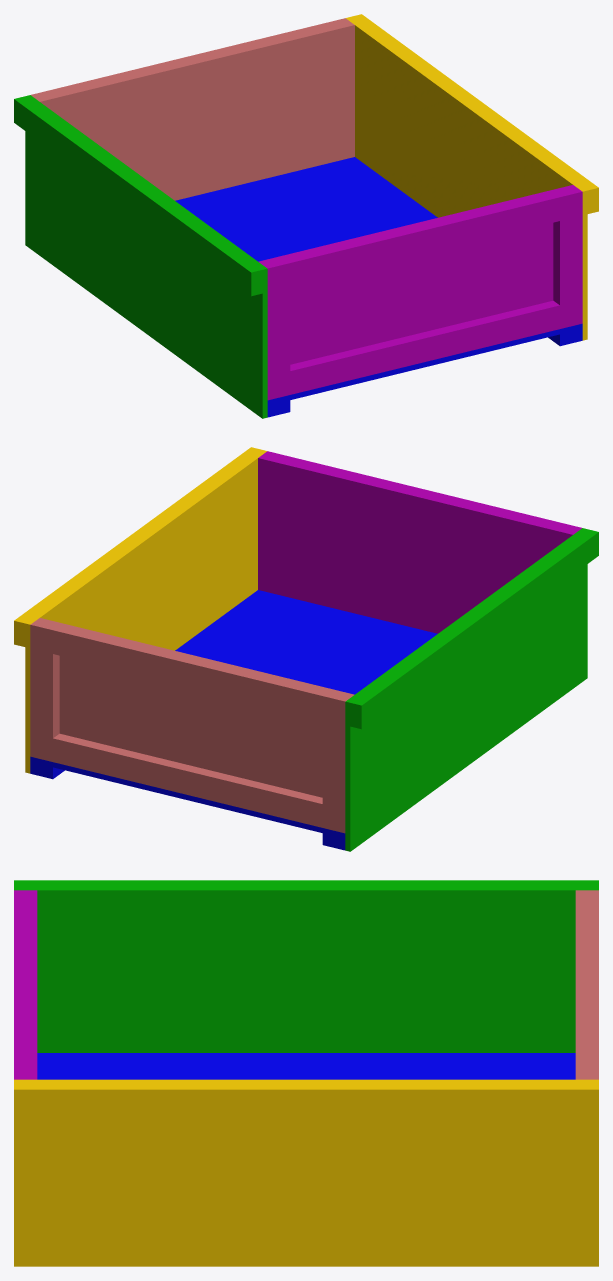
File: result.glb
3 views of the same model, one above another, from view 1: azimuth 30°, elevation 25°; view 2: azimuth 150°, elevation 25°; view 3: azimuth 270°, elevation 25° (orthographic). The views are drawn at different scales.
Parts seen in each view (by area): view 1: 3681e3bf-60c3-491b-8070-2dc3f50ba61c__undefined, b11243e1-1dce-4a89-97ea-7af2fce43f36__Box_6, 77fae06c-28fd-427f-b5fb-5c0b5a362510__undefined, f3de91a0-459d-4058-b39d-88b7585db05c__Box_3, c9e61b96-93dc-47dd-aac9-d6441d37034f__Box, e978d200-114e-425a-9752-bc6684e7fb0c__Box_7, 3c8fd72f-9050-4b70-af2f-f8ecd82deae7__undefined, 07f82b00-eb5a-4a38-9a83-b3995fec388a__Box_5, fd5cf4d2-50be-49a6-8da0-34be78d331cc__undefined, c1149ab2-0e81-45a0-8df3-9358fe344a7a__Box_4, 5647ea86-6cb0-43e8-ab88-22c736b11529__undefined, c5170dbc-4d08-4be2-963e-89310e51156c__undefined; view 2: f3de91a0-459d-4058-b39d-88b7585db05c__Box_3, b11243e1-1dce-4a89-97ea-7af2fce43f36__Box_6, 77fae06c-28fd-427f-b5fb-5c0b5a362510__undefined, 3681e3bf-60c3-491b-8070-2dc3f50ba61c__undefined, c9e61b96-93dc-47dd-aac9-d6441d37034f__Box, e978d200-114e-425a-9752-bc6684e7fb0c__Box_7, c5170dbc-4d08-4be2-963e-89310e51156c__undefined, 8b0b4097-4090-4111-91d5-4014376cc7b7__undefined, 528d70de-dcce-48bd-99b8-853e054d77c8__undefined, b14191b0-82a1-4f99-a056-e31682cc5346__undefined, 5647ea86-6cb0-43e8-ab88-22c736b11529__undefined, 3c8fd72f-9050-4b70-af2f-f8ecd82deae7__undefined; view 3: b11243e1-1dce-4a89-97ea-7af2fce43f36__Box_6, 77fae06c-28fd-427f-b5fb-5c0b5a362510__undefined, 5647ea86-6cb0-43e8-ab88-22c736b11529__undefined, c9e61b96-93dc-47dd-aac9-d6441d37034f__Box, e978d200-114e-425a-9752-bc6684e7fb0c__Box_7, 3c8fd72f-9050-4b70-af2f-f8ecd82deae7__undefined, c5170dbc-4d08-4be2-963e-89310e51156c__undefined, f3de91a0-459d-4058-b39d-88b7585db05c__Box_3, 3681e3bf-60c3-491b-8070-2dc3f50ba61c__undefined.
Boxes of the visible parts, x1,y1,x2,y2 form: 3681e3bf-60c3-491b-8070-2dc3f50ba61c__undefined: [37, 23, 354, 200]; b11243e1-1dce-4a89-97ea-7af2fce43f36__Box_6: [25, 95, 267, 418]; 77fae06c-28fd-427f-b5fb-5c0b5a362510__undefined: [345, 17, 587, 340]; f3de91a0-459d-4058-b39d-88b7585db05c__Box_3: [258, 185, 575, 364]; c9e61b96-93dc-47dd-aac9-d6441d37034f__Box: [175, 157, 582, 405]; e978d200-114e-425a-9752-bc6684e7fb0c__Box_7: [14, 96, 262, 296]; 3c8fd72f-9050-4b70-af2f-f8ecd82deae7__undefined: [284, 192, 559, 286]; 07f82b00-eb5a-4a38-9a83-b3995fec388a__Box_5: [290, 300, 559, 394]; fd5cf4d2-50be-49a6-8da0-34be78d331cc__undefined: [553, 187, 582, 328]; c1149ab2-0e81-45a0-8df3-9358fe344a7a__Box_4: [261, 258, 290, 400]; 5647ea86-6cb0-43e8-ab88-22c736b11529__undefined: [351, 14, 598, 213]; c5170dbc-4d08-4be2-963e-89310e51156c__undefined: [53, 23, 328, 94]; f3de91a0-459d-4058-b39d-88b7585db05c__Box_3: [258, 456, 575, 633]; b11243e1-1dce-4a89-97ea-7af2fce43f36__Box_6: [345, 528, 587, 851]; 77fae06c-28fd-427f-b5fb-5c0b5a362510__undefined: [25, 450, 267, 773]; 3681e3bf-60c3-491b-8070-2dc3f50ba61c__undefined: [37, 618, 354, 797]; c9e61b96-93dc-47dd-aac9-d6441d37034f__Box: [30, 590, 437, 838]; e978d200-114e-425a-9752-bc6684e7fb0c__Box_7: [350, 529, 598, 729]; c5170dbc-4d08-4be2-963e-89310e51156c__undefined: [53, 625, 328, 719]; 8b0b4097-4090-4111-91d5-4014376cc7b7__undefined: [53, 733, 322, 827]; 528d70de-dcce-48bd-99b8-853e054d77c8__undefined: [30, 620, 59, 761]; b14191b0-82a1-4f99-a056-e31682cc5346__undefined: [322, 691, 351, 833]; 5647ea86-6cb0-43e8-ab88-22c736b11529__undefined: [14, 447, 261, 646]; 3c8fd72f-9050-4b70-af2f-f8ecd82deae7__undefined: [284, 456, 559, 527]; b11243e1-1dce-4a89-97ea-7af2fce43f36__Box_6: [14, 887, 598, 1052]; 77fae06c-28fd-427f-b5fb-5c0b5a362510__undefined: [14, 1079, 598, 1266]; 5647ea86-6cb0-43e8-ab88-22c736b11529__undefined: [14, 1083, 598, 1118]; c9e61b96-93dc-47dd-aac9-d6441d37034f__Box: [37, 1053, 575, 1079]; e978d200-114e-425a-9752-bc6684e7fb0c__Box_7: [14, 880, 598, 887]; 3c8fd72f-9050-4b70-af2f-f8ecd82deae7__undefined: [14, 904, 29, 1066]; c5170dbc-4d08-4be2-963e-89310e51156c__undefined: [583, 904, 598, 1066]; f3de91a0-459d-4058-b39d-88b7585db05c__Box_3: [30, 890, 37, 1079]; 3681e3bf-60c3-491b-8070-2dc3f50ba61c__undefined: [575, 890, 582, 1079].
Bounding box in the file's own units: 552 × 226 × 652.
